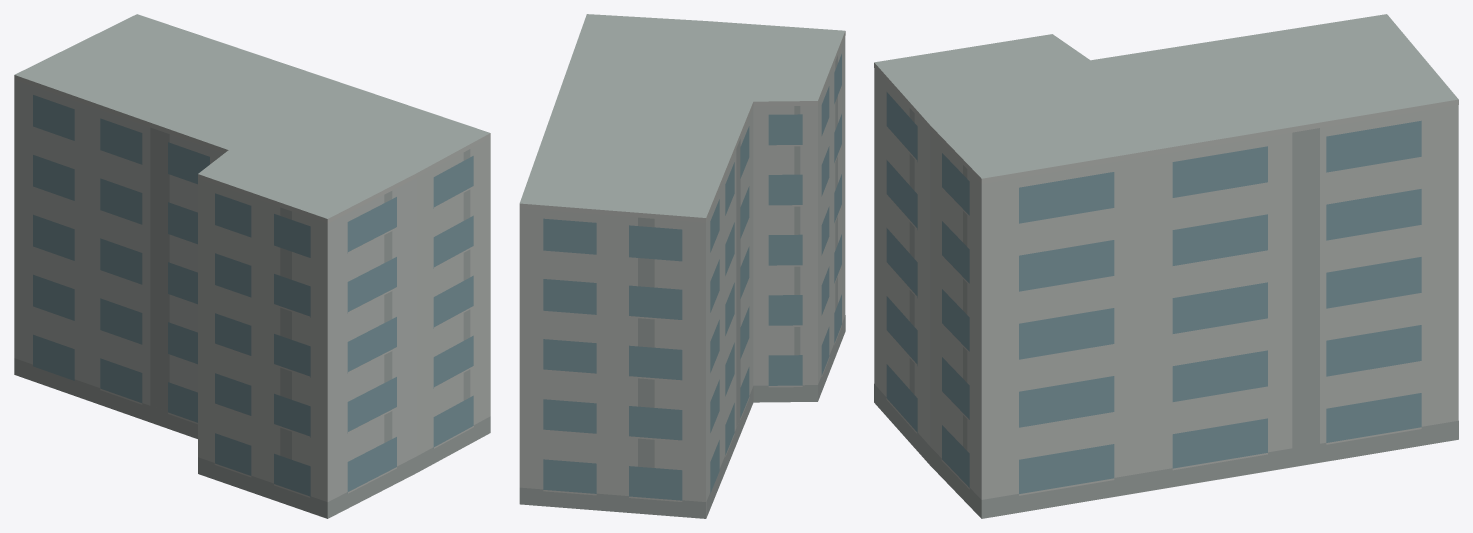
File: survey-upis-32724341.glb
The picture shows the model from 3 angles, left to right: view 1: azimuth 30°, elevation 25°; view 2: azimuth 150°, elevation 25°; view 3: azimuth 270°, elevation 25°; orthographic projection. The views are drawn at different scales.
Visible parts, largest first — view 1: survey-upis-32724341.tmp; view 2: survey-upis-32724341.tmp; view 3: survey-upis-32724341.tmp.
Part boxes in pixels (x1,y1,x2,y2): survey-upis-32724341.tmp: (14,14,490,518); survey-upis-32724341.tmp: (519,14,845,518); survey-upis-32724341.tmp: (874,14,1458,518).
Bounding box in the file's own units: 15.85 × 15.25 × 23.77.
